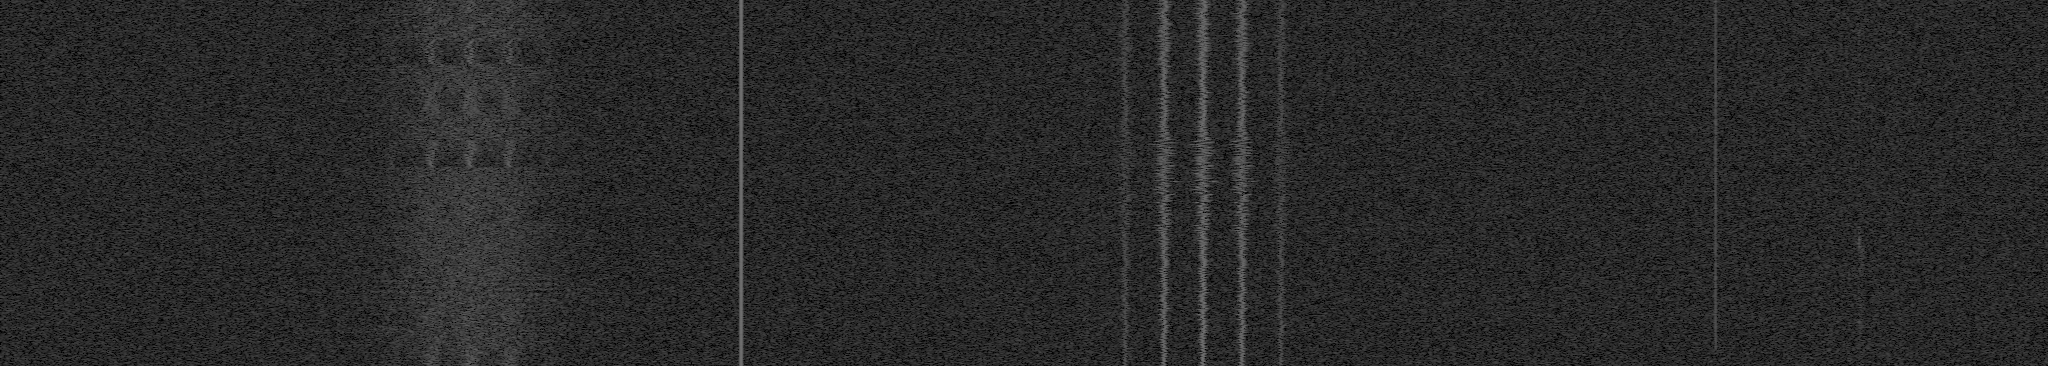wv_cw: (1710, 0, 1721, 352), (737, 0, 744, 366)
wv_usb: (1856, 225, 1866, 366), (1857, 56, 1866, 122), (1857, 22, 1866, 56), (1857, 123, 1865, 150), (1859, 170, 1865, 184), (1859, 190, 1864, 203), (1859, 5, 1865, 12), (1859, 158, 1863, 169), (1859, 205, 1863, 214), (1859, 186, 1864, 190), (1859, 13, 1864, 17), (1859, 152, 1863, 154)
wv_wbfm: (300, 0, 639, 366), (1183, 0, 1223, 366), (1223, 0, 1260, 366), (1145, 0, 1183, 366), (1266, 0, 1298, 366), (1109, 0, 1142, 366), (1078, 0, 1095, 142), (1311, 227, 1326, 366), (1078, 227, 1092, 366), (1311, 0, 1328, 93), (1310, 93, 1327, 142), (1078, 148, 1097, 180), (1310, 156, 1330, 180), (1079, 203, 1095, 226), (1313, 203, 1327, 226), (1076, 182, 1093, 192), (1310, 182, 1326, 192), (1311, 148, 1330, 156), (1317, 193, 1330, 203), (1083, 193, 1096, 203), (1311, 142, 1330, 148), (1079, 142, 1097, 148)
